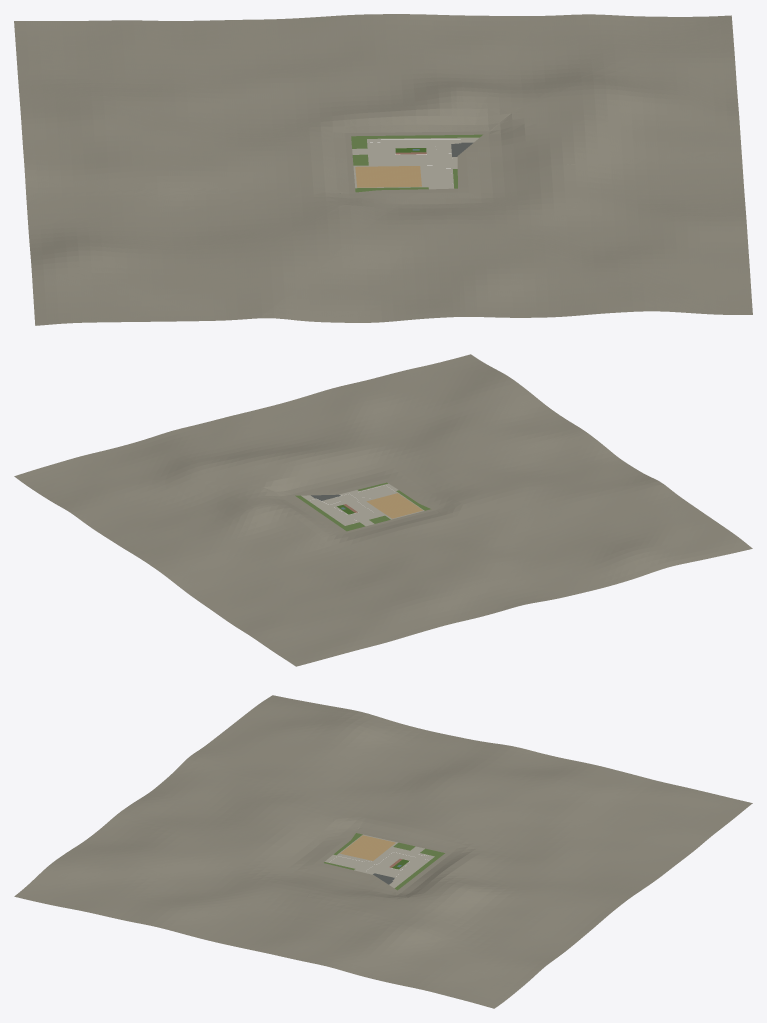
The picture shows the model from 3 angles, top to bottom: view 1: azimuth 30°, elevation 25°; view 2: azimuth 150°, elevation 25°; view 3: azimuth 270°, elevation 25°; orthographic projection. The views are drawn at different scales.
Visible parts, largest first — view 1: ground_context-estimated, surface_school-paved-walk, surface_field; view 2: ground_context-estimated, surface_school-paved-walk, surface_field; view 3: ground_context-estimated, surface_school-paved-walk, surface_field.
Boxes of the visible parts, box(x1,y1,x2,y2) form: ground_context-estimated: box(14, 14, 752, 325); surface_school-paved-walk: box(353, 137, 479, 189); surface_field: box(355, 166, 421, 187); ground_context-estimated: box(14, 354, 752, 666); surface_school-paved-walk: box(301, 483, 424, 525); surface_field: box(366, 493, 422, 518); ground_context-estimated: box(14, 695, 752, 1008); surface_school-paved-walk: box(325, 834, 434, 888); surface_field: box(340, 835, 395, 860).
Size of the model in its own units: 975 by 16.69 by 975.
Materials: 8 (7 with a texture image).
